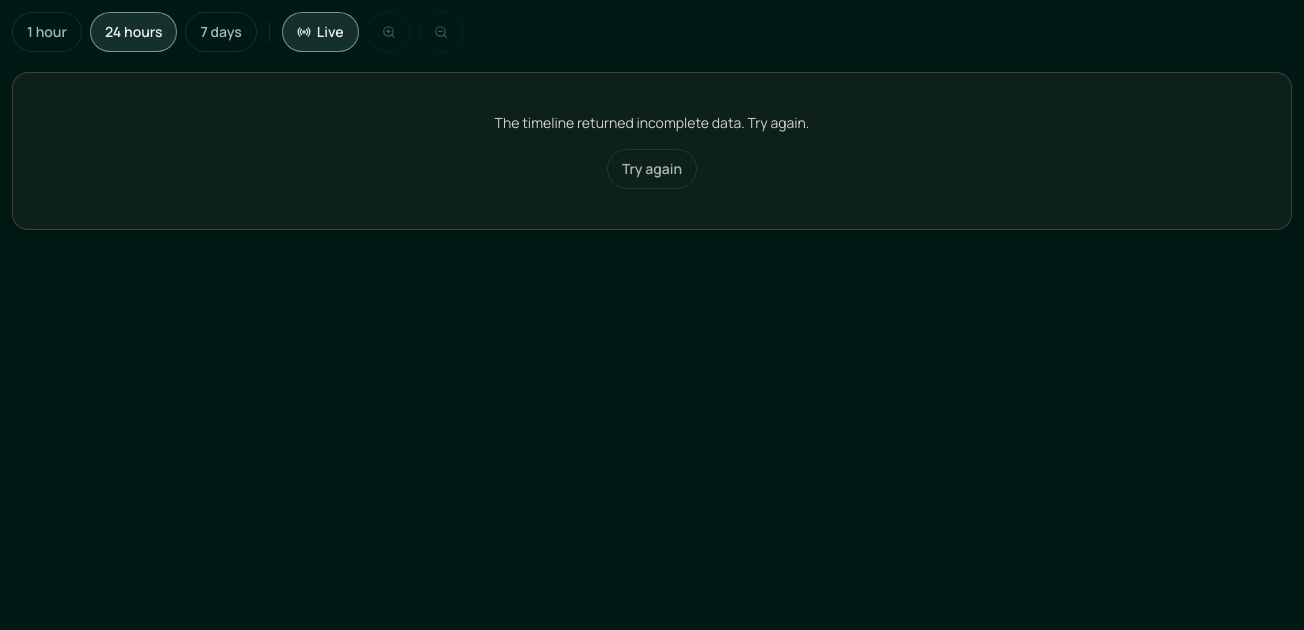
it: AuditTimeline › shows a recoverable error for HTTP 200 with missing data
Expected: the message shows "The timeline returned incomplete data.", [495,113,809,132]
Click the button "Try again".
click(652, 169)  # box [607,149,697,189]
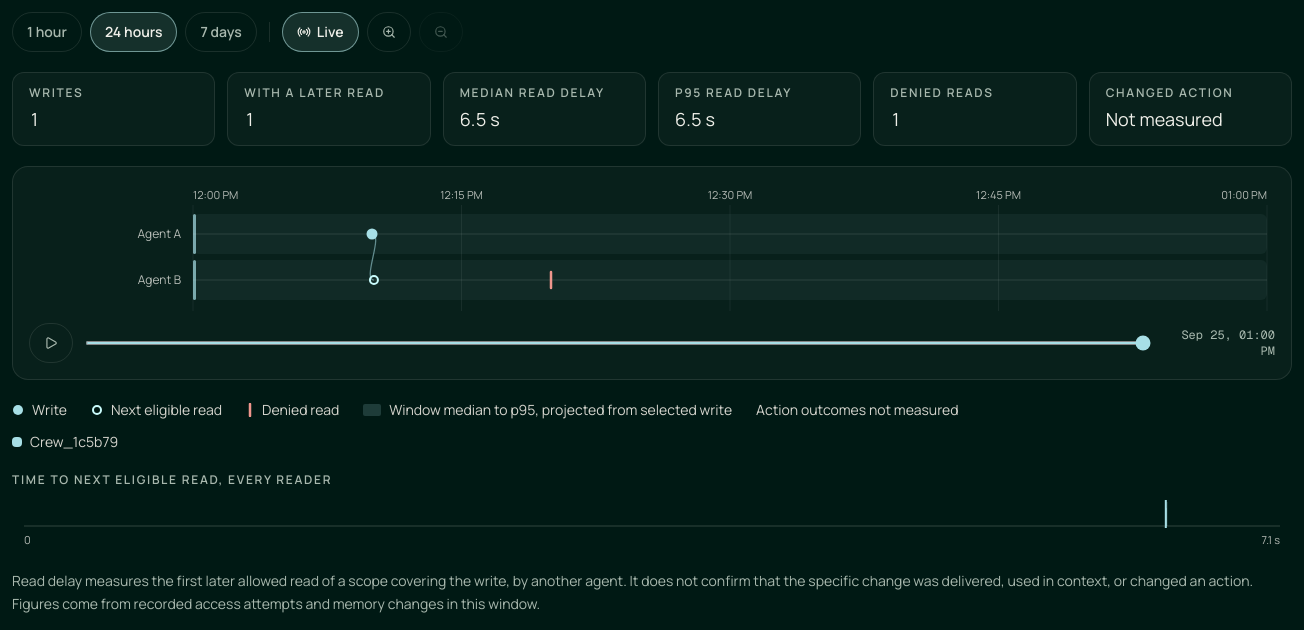
Expected: the text "Agent A" is shown, [138,225,181,242]
Now the message "The timeline returned incomplete data. Try again. Try again" is gone
